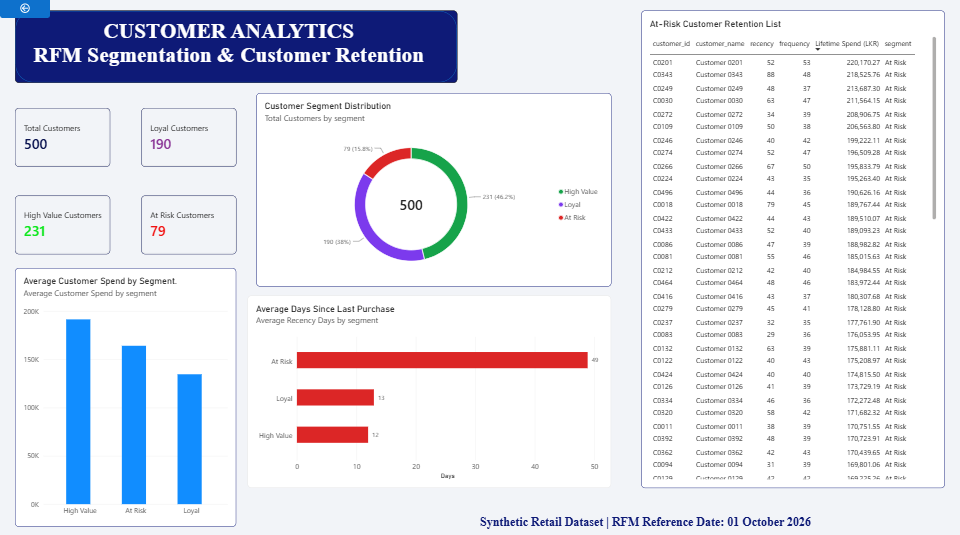

What the dashboard file says about the page in this screenshot:
{"tool":"powerbi","page":{"name":"Customer Analytics","canvas":[1920,1080],"ordinal":2},"visuals":[{"type":"shape","box":[30,25,885,145],"z":0},{"type":"textbox","box":[0,40,915,112.5],"z":1000},{"type":"cardVisual","fields":{"Data":["_Measures.Total Customers"]},"box":[30,220,190,117.5],"z":2000},{"type":"cardVisual","fields":{"Data":["_Measures.High Value Customers"]},"box":[30,395,190,117.5],"z":3000},{"type":"cardVisual","fields":{"Data":["_Measures.Loyal Customers"]},"box":[282.5,220,190,117.5],"z":4000},{"type":"cardVisual","fields":{"Data":["_Measures.At Risk Customers"]},"box":[282.5,395,190,117.5],"z":5000},{"type":"donutChart","title":"Customer Segment Distribution","fields":{"Category":["Customers.segment"],"Y":["_Measures.Total Customers"]},"box":[512.5,190,710,387.5],"z":6000},{"type":"clusteredColumnChart","title":"Average Customer Spend by Segment.","fields":{"Category":["Customers.segment"],"Y":["_Measures.Average Customer Spend"]},"box":[30,540,442.5,517.5],"z":7000},{"type":"clusteredBarChart","title":"Average Days Since Last Purchase","fields":{"Category":["Customers.segment"],"Y":["_Measures.Average Recency Days"]},"box":[495,595,727.5,385],"z":8000},{"type":"tableEx","title":"At-Risk Customer Retention List","fields":{"Values":["Customers.customer_id","Customers.customer_name","Customers.recency","Customers.frequency","Sum(Customers.monetary)","Customers.segment"]},"box":[1282.5,25,607.5,955],"z":9000},{"type":"actionButton","box":[0,0,100,40],"z":10000},{"type":"textbox","box":[960,1035,755,45],"z":11000}]}

Visuals, with their boxes in screenshot pixels (x1, y1, x2, y2), scaled from the page's 1920x1080 canvas onto the 960x535 screenshot:
shape: x1=15, y1=12, x2=458, y2=84
textbox: x1=0, y1=20, x2=458, y2=76
cardVisual - _Measures.Total Customers: x1=15, y1=109, x2=110, y2=167
cardVisual - _Measures.High Value Customers: x1=15, y1=196, x2=110, y2=254
cardVisual - _Measures.Loyal Customers: x1=141, y1=109, x2=236, y2=167
cardVisual - _Measures.At Risk Customers: x1=141, y1=196, x2=236, y2=254
"Customer Segment Distribution" donutChart: x1=256, y1=94, x2=611, y2=286
"Average Customer Spend by Segment." clusteredColumnChart: x1=15, y1=268, x2=236, y2=524
"Average Days Since Last Purchase" clusteredBarChart: x1=248, y1=295, x2=611, y2=485
"At-Risk Customer Retention List" tableEx: x1=641, y1=12, x2=945, y2=485
actionButton: x1=0, y1=0, x2=50, y2=20
textbox: x1=480, y1=513, x2=858, y2=534
